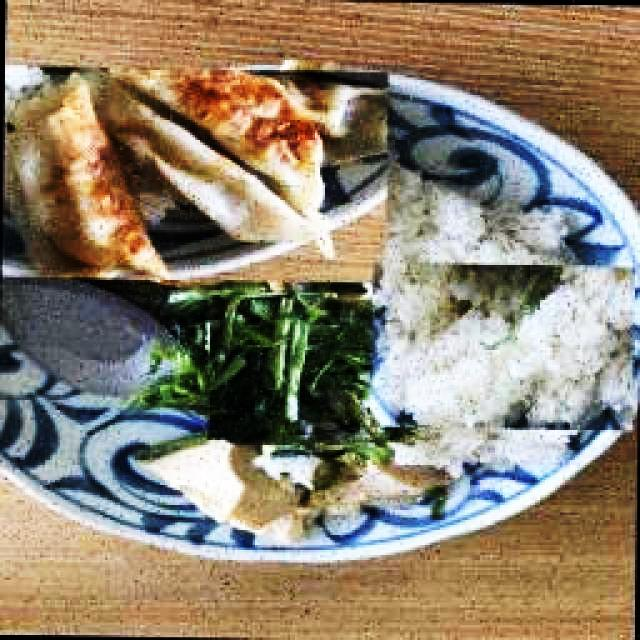fried_dumplings: (97, 76, 328, 256), (0, 72, 166, 282)
rice: (386, 266, 636, 421), (389, 168, 572, 267)
water_spinach: (148, 281, 365, 435)
